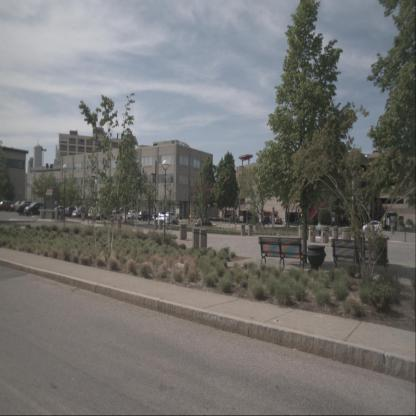vehicle-bus-rigid: (263, 210, 280, 224)
vehicle-car: (24, 202, 48, 216), (16, 202, 36, 216), (362, 220, 382, 233), (195, 217, 213, 229), (154, 214, 172, 225), (72, 207, 88, 219), (10, 201, 26, 212), (107, 210, 123, 221), (54, 205, 70, 216), (127, 209, 140, 220), (64, 206, 78, 216), (165, 215, 179, 225), (138, 211, 152, 221), (164, 212, 178, 221), (0, 202, 11, 212), (259, 216, 270, 225), (229, 214, 239, 221), (189, 212, 198, 219)
